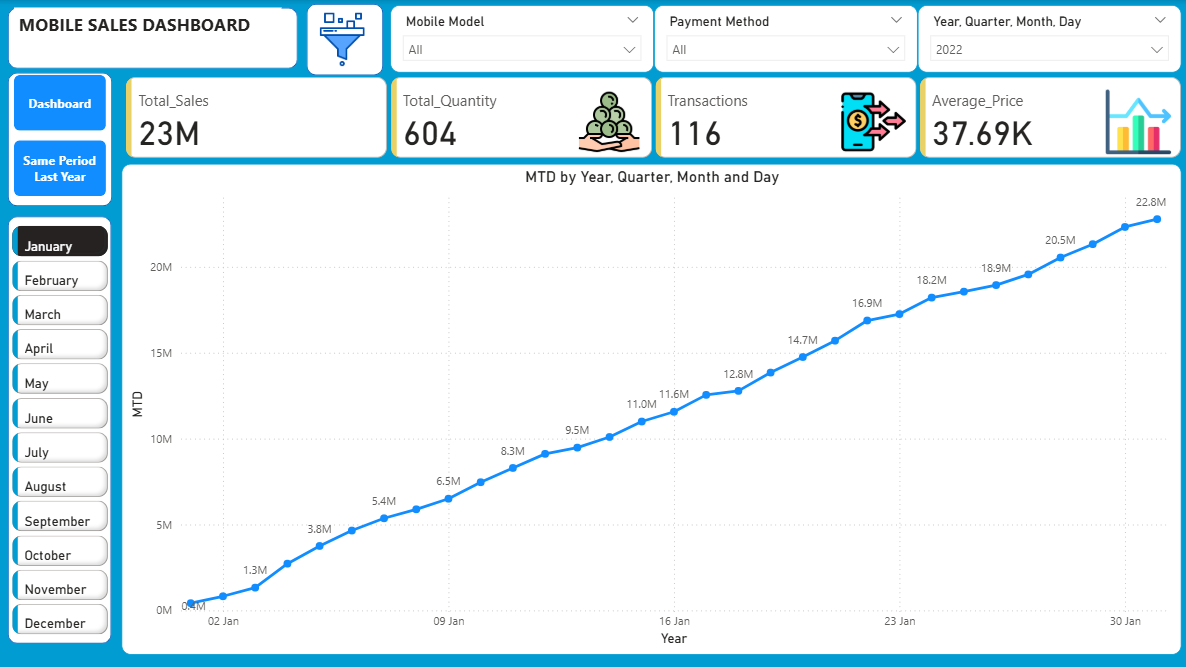

This screenshot's page, from the dashboard's own definition file:
{"tool":"powerbi","page":{"name":"MTD Report","canvas":[1280,720],"ordinal":1},"visuals":[{"type":"shape","box":[9.6,78.2,112.5,144.1],"z":1000},{"type":"cardVisual","fields":{"Data":["Sales_Data.Total_Sales","Sales_Data.Total_Quantity","Sales_Data.Transactions","Sales_Data.Average_Price"]},"box":[132.3,78.6,1148,97.8],"z":2000},{"type":"slicer","fields":{"Values":["Sales_Data.Mobile Model"]},"box":[421.3,5.5,284,72.7],"z":3000},{"type":"slicer","fields":{"Values":["Sales_Data.Payment Method"]},"box":[705.3,5.5,284,72.7],"z":4000},{"type":"slicer","fields":{"Values":["Custom_Calender.Date.Variation.Date Hierarchy.Year","Custom_Calender.Date.Variation.Date Hierarchy.Quarter","Custom_Calender.Date.Variation.Date Hierarchy.Month","Custom_Calender.Date.Variation.Date Hierarchy.Day"]},"box":[989.4,5.5,284,72.7],"z":5000},{"type":"shape","box":[330.8,4.1,82.7,77.2],"z":6000},{"type":"image","box":[330.8,8.3,77.2,68.9],"z":7000},{"type":"shape","box":[9.4,8.1,312.3,66],"z":8000},{"type":"textbox","box":[16.2,8.1,288.1,57.9],"z":9000},{"type":"lineChart","fields":{"Y":["Sales_Data.MTD"],"Category":["Custom_Calender.Date.Variation.Date Hierarchy.Year","Custom_Calender.Date.Variation.Date Hierarchy.Quarter","Custom_Calender.Date.Variation.Date Hierarchy.Month","Custom_Calender.Date.Variation.Date Hierarchy.Day"]},"box":[131.9,176.4,1141.6,529.1],"z":10000},{"type":"shape","box":[9.4,232.9,111.7,460.4],"z":11000},{"type":"advancedSlicerVisual","fields":{"Values":["Custom_Calender.Date.Variation.Date Hierarchy.Month"]},"box":[9.4,238.3,113.1,455],"z":12000},{"type":"pageNavigator","box":[16.2,80.8,99.6,130.6],"z":13000}]}

Visuals, with their boxes in screenshot pixels (x1, y1, x2, y2), scaled from the page's 1280x720 canvas onto the 1186x667 screenshot:
shape: box=[9, 72, 113, 206]
cardVisual - Sales_Data.Total_Sales x Sales_Data.Total_Quantity: box=[123, 73, 1185, 163]
slicer - Sales_Data.Mobile Model: box=[390, 5, 654, 72]
slicer - Sales_Data.Payment Method: box=[654, 5, 917, 72]
slicer - Custom_Calender.Date.Variation.Date Hierarchy.Year x Custom_Calender.Date.Variation.Date Hierarchy.Quarter: box=[917, 5, 1180, 72]
shape: box=[307, 4, 383, 75]
image: box=[307, 8, 378, 72]
shape: box=[9, 8, 298, 69]
textbox: box=[15, 8, 282, 61]
lineChart - Sales_Data.MTD x Custom_Calender.Date.Variation.Date Hierarchy.Year: box=[122, 163, 1180, 654]
shape: box=[9, 216, 112, 642]
advancedSlicerVisual - Custom_Calender.Date.Variation.Date Hierarchy.Month: box=[9, 221, 114, 642]
pageNavigator: box=[15, 75, 107, 196]
